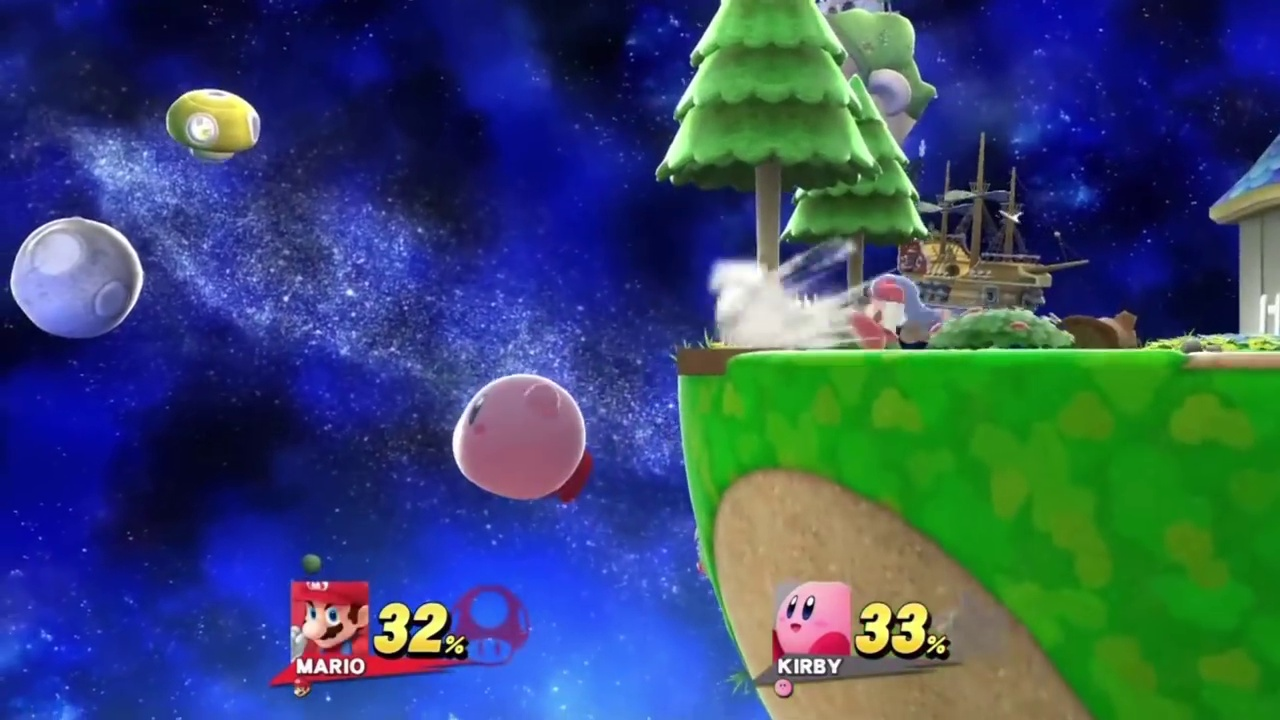Mario: (845, 274, 942, 350)
